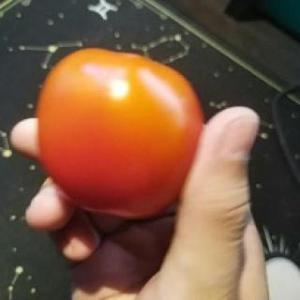tomato: (26, 40, 220, 224)
